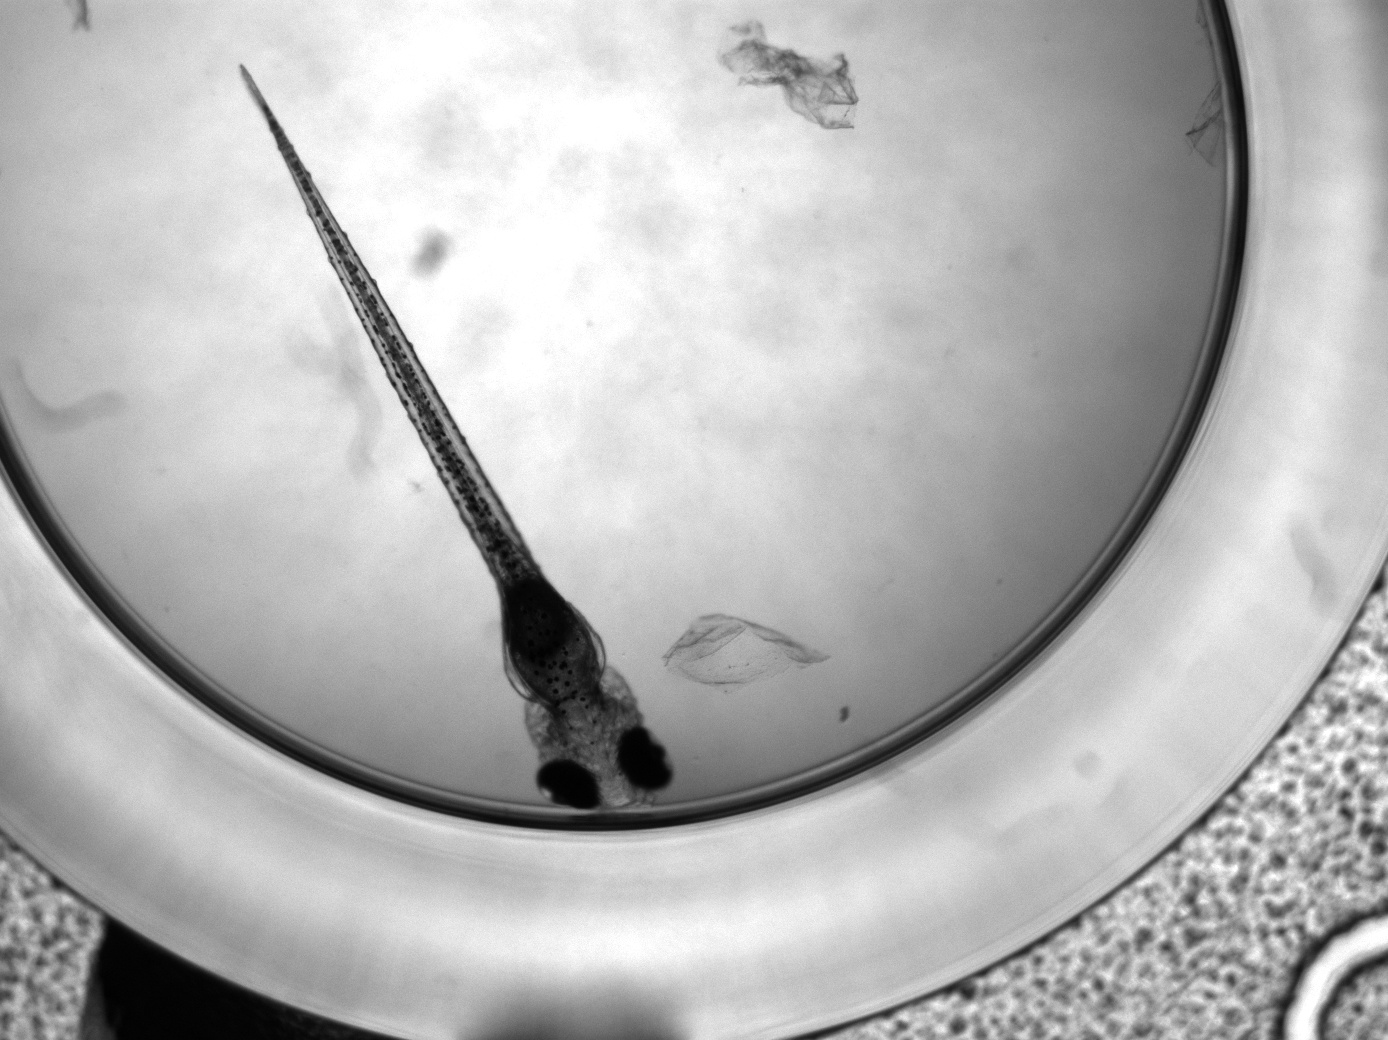debris: (717, 17, 864, 135), (663, 614, 832, 688)
embryo: (237, 63, 675, 816)
eye: (615, 726, 675, 795), (534, 759, 601, 812)
yolksac: (497, 583, 609, 702)
